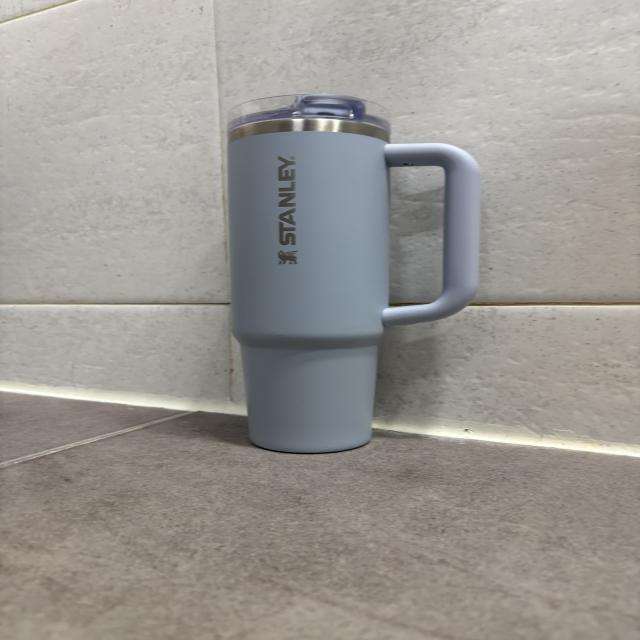waterbottle: (227, 93, 478, 453)
